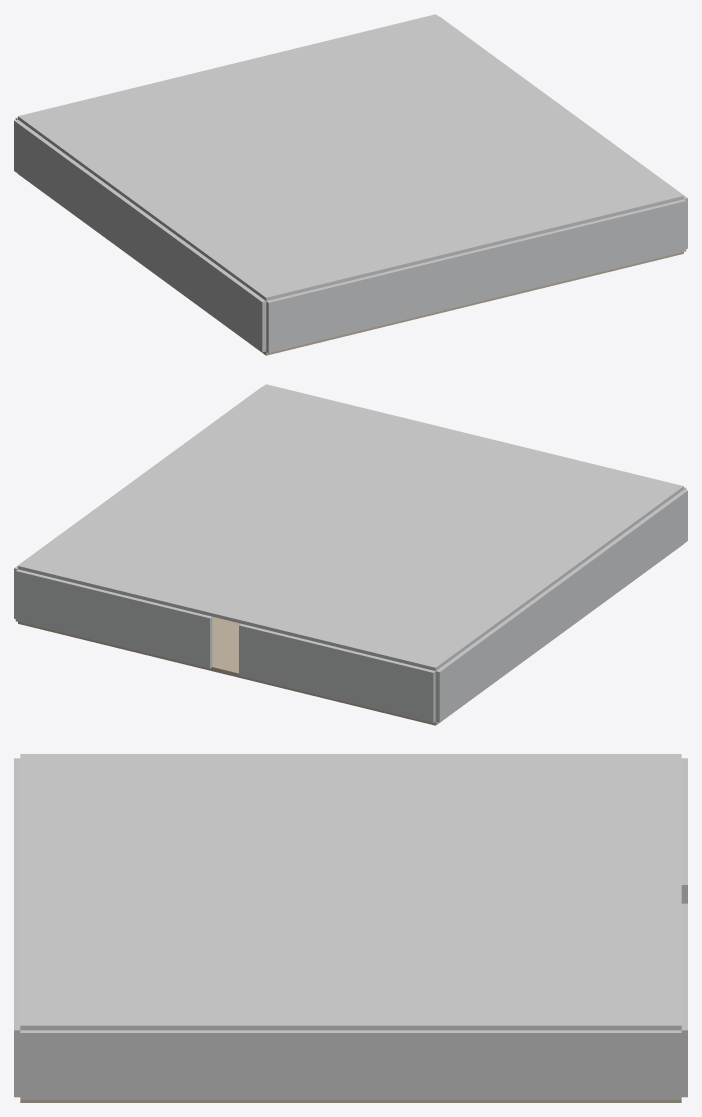
Rendered from building.glb.
3 renders of one model, top to bottom at view 1: azimuth 30°, elevation 25°; view 2: azimuth 150°, elevation 25°; view 3: azimuth 270°, elevation 25°, orthographic. The views are drawn at different scales.
Parts seen in each view (by area): view 1: geometry_0; view 2: geometry_0; view 3: geometry_0.
Boxes of the visible parts, bbox=[...] form: geometry_0: bbox=[14, 14, 687, 355]; geometry_0: bbox=[14, 384, 687, 725]; geometry_0: bbox=[14, 754, 687, 1102].
Size of the model in its own units: 26.55 by 3.45 by 27.3.
